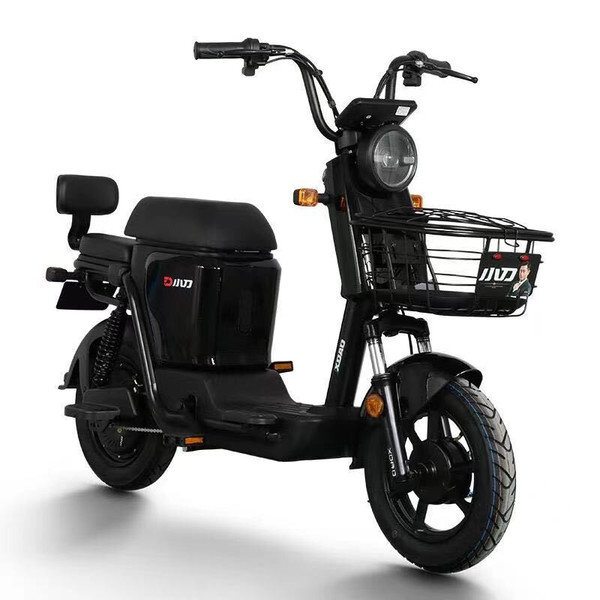MNV: (54, 38, 553, 572)
